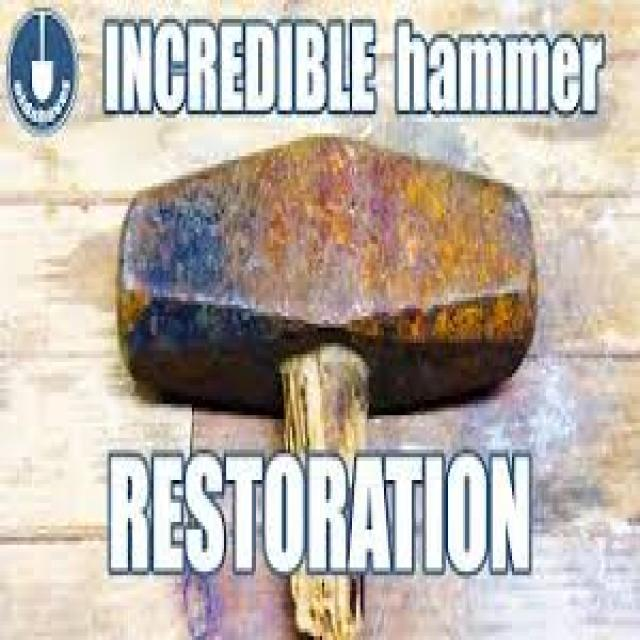hammer: (110, 122, 541, 640)
